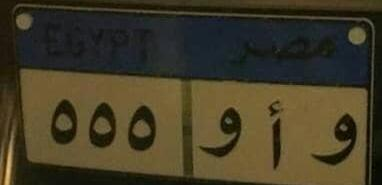5: (84, 97, 119, 153), (123, 106, 161, 157), (47, 97, 81, 150)
alif: (258, 91, 287, 174)
waw: (303, 102, 358, 174), (196, 99, 244, 168)
